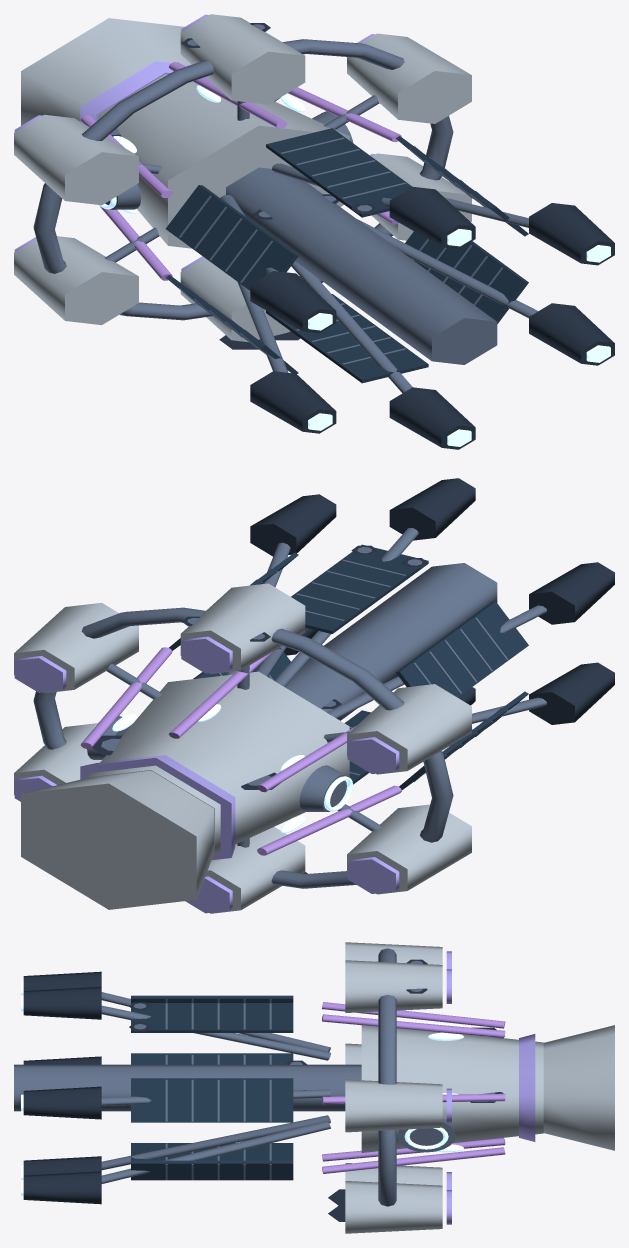
File: cryogenic_hydrocarbon--science_vessel.glb
3 renders of one model, top to bottom at view 1: azimuth 30°, elevation 25°; view 2: azimuth 150°, elevation 25°; view 3: azimuth 270°, elevation 25°, orthographic. The views are drawn at different scales.
Visible parts, largest first — view 1: thermal_isolation_spine_1, cold_habitat_lantern_2, forward_ice_cap_3, sixfold_science_frame_75, cold_laboratory_lantern_91, cold_laboratory_lantern_76, cold_laboratory_lantern_88, cold_laboratory_lantern_79, heat_rejection_fin_64, heat_rejection_fin_9, heat_rejection_fin_42, heat_rejection_fin_31 (+19 smaller); view 2: forward_ice_cap_3, cold_habitat_lantern_2, thermal_isolation_spine_1, sixfold_science_frame_75, cold_laboratory_lantern_91, cold_laboratory_lantern_76, heat_rejection_fin_64, cold_laboratory_lantern_88, cold_laboratory_lantern_79, heat_rejection_fin_9, cold_laboratory_lantern_85, isolated_hot_drive_7 (+19 smaller); view 3: cold_habitat_lantern_2, thermal_isolation_spine_1, forward_ice_cap_3, heat_rejection_fin_20, cold_laboratory_lantern_79, cold_laboratory_lantern_76, heat_rejection_fin_9, cold_laboratory_lantern_82, sixfold_science_frame_75, heat_rejection_fin_31, isolated_hot_drive_18, isolated_hot_drive_29 (+21 smaller).
Part boxes in pixels (bbox=[...]): thermal_isolation_spine_1: bbox=[226, 167, 497, 364]; cold_habitat_lantern_2: bbox=[98, 74, 349, 248]; forward_ice_cap_3: bbox=[21, 18, 191, 125]; sixfold_science_frame_75: bbox=[33, 39, 453, 320]; cold_laboratory_lantern_91: bbox=[14, 114, 138, 205]; cold_laboratory_lantern_76: bbox=[180, 14, 305, 104]; cold_laboratory_lantern_88: bbox=[14, 236, 138, 325]; cold_laboratory_lantern_79: bbox=[347, 33, 471, 123]; heat_rejection_fin_64: bbox=[165, 185, 298, 290]; heat_rejection_fin_9: bbox=[266, 128, 412, 217]; heat_rejection_fin_42: bbox=[266, 294, 428, 383]; heat_rejection_fin_31: bbox=[405, 231, 528, 323]; forward_ice_cap_3: bbox=[21, 770, 213, 909]; cold_habitat_lantern_2: bbox=[87, 671, 349, 854]; thermal_isolation_spine_1: bbox=[285, 563, 497, 720]; sixfold_science_frame_75: bbox=[33, 607, 453, 888]; cold_laboratory_lantern_91: bbox=[347, 684, 471, 774]; cold_laboratory_lantern_76: bbox=[180, 583, 305, 673]; heat_rejection_fin_64: bbox=[395, 601, 528, 697]; cold_laboratory_lantern_88: bbox=[347, 804, 471, 894]; cold_laboratory_lantern_79: bbox=[14, 602, 138, 693]; heat_rejection_fin_9: bbox=[291, 544, 428, 633]; cold_laboratory_lantern_85: bbox=[205, 827, 305, 913]; isolated_hot_drive_7: bbox=[389, 478, 475, 540]; cold_habitat_lantern_2: bbox=[361, 1025, 543, 1152]; thermal_isolation_spine_1: bbox=[14, 1064, 361, 1111]; forward_ice_cap_3: bbox=[543, 1025, 614, 1150]; heat_rejection_fin_20: bbox=[131, 1078, 293, 1122]; cold_laboratory_lantern_79: bbox=[345, 1079, 442, 1132]; cold_laboratory_lantern_76: bbox=[345, 960, 442, 1012]; heat_rejection_fin_9: bbox=[131, 1003, 293, 1032]; cold_laboratory_lantern_82: bbox=[345, 1181, 442, 1233]; sixfold_science_frame_75: bbox=[378, 948, 396, 1206]; heat_rejection_fin_31: bbox=[131, 1160, 293, 1180]; isolated_hot_drive_18: bbox=[23, 1086, 101, 1119]; isolated_hot_drive_29: bbox=[23, 1171, 101, 1204].
Bounding box in the file's own units: 224 × 150 × 330.
